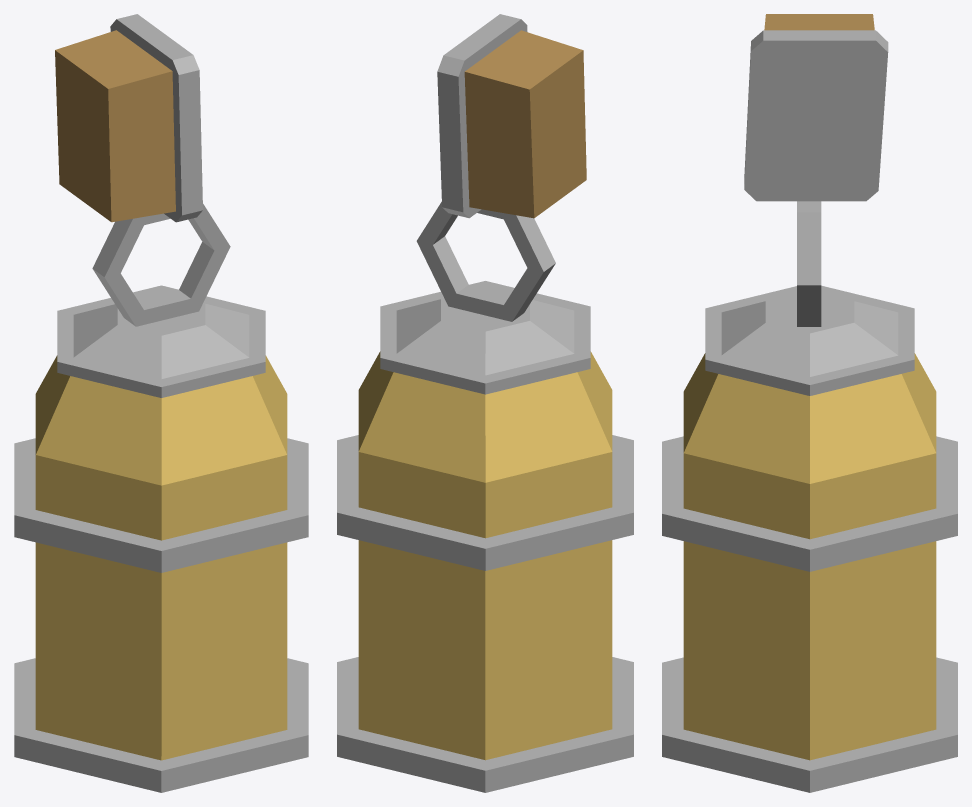
File: lamp.fbx
3 views of the same model, side by side, from view 1: azimuth 30°, elevation 25°; view 2: azimuth 150°, elevation 25°; view 3: azimuth 270°, elevation 25° (orthographic).
Visible parts, largest first — view 1: Lamp_Post_01.001; view 2: Lamp_Post_01.001; view 3: Lamp_Post_01.001.
Part boxes in pixels (x1,y1,x2,y2): Lamp_Post_01.001: (14, 14, 308, 792); Lamp_Post_01.001: (337, 14, 633, 792); Lamp_Post_01.001: (662, 14, 957, 792).
Bounding box in the file's own units: 35 × 77.41 × 30.31.
